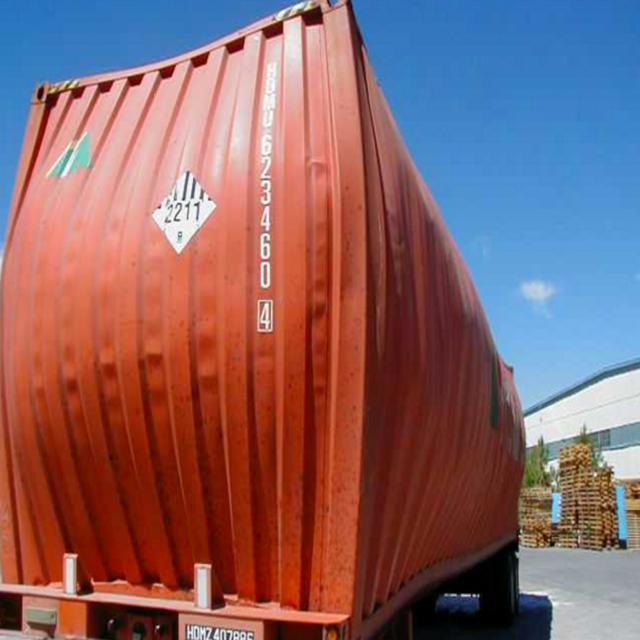Deframe_or_Dent: (42, 175, 294, 450)
